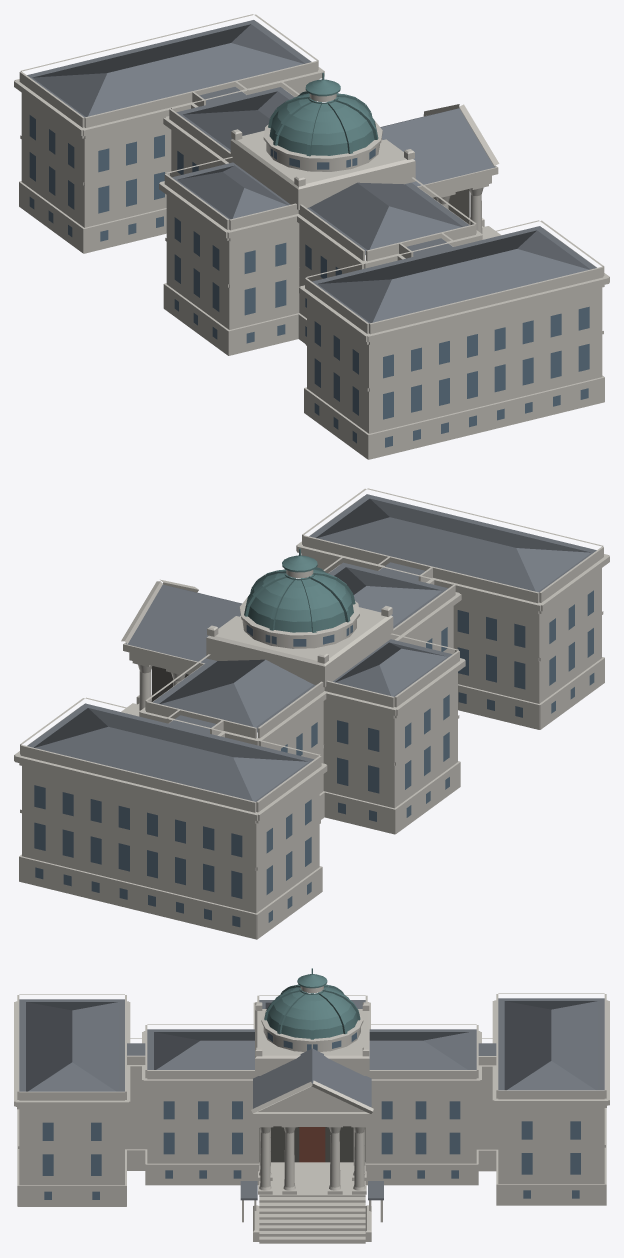
The model's file is osaka-nakanoshima-library.glb.
3 views of the same model, one above another, from view 1: azimuth 30°, elevation 25°; view 2: azimuth 150°, elevation 25°; view 3: azimuth 270°, elevation 25° (orthographic). The views are drawn at different scales.
Parts seen in each view (by area): view 1: Osaka Prefectural Nakanoshima Library; view 2: Osaka Prefectural Nakanoshima Library; view 3: Osaka Prefectural Nakanoshima Library.
Boxes of the visible parts, x1,y1,x2,y2 form: Osaka Prefectural Nakanoshima Library: (14, 14, 609, 459); Osaka Prefectural Nakanoshima Library: (14, 488, 609, 939); Osaka Prefectural Nakanoshima Library: (14, 968, 609, 1243).
Bounding box in the file's own units: 42.1 × 27.7 × 77.3.
